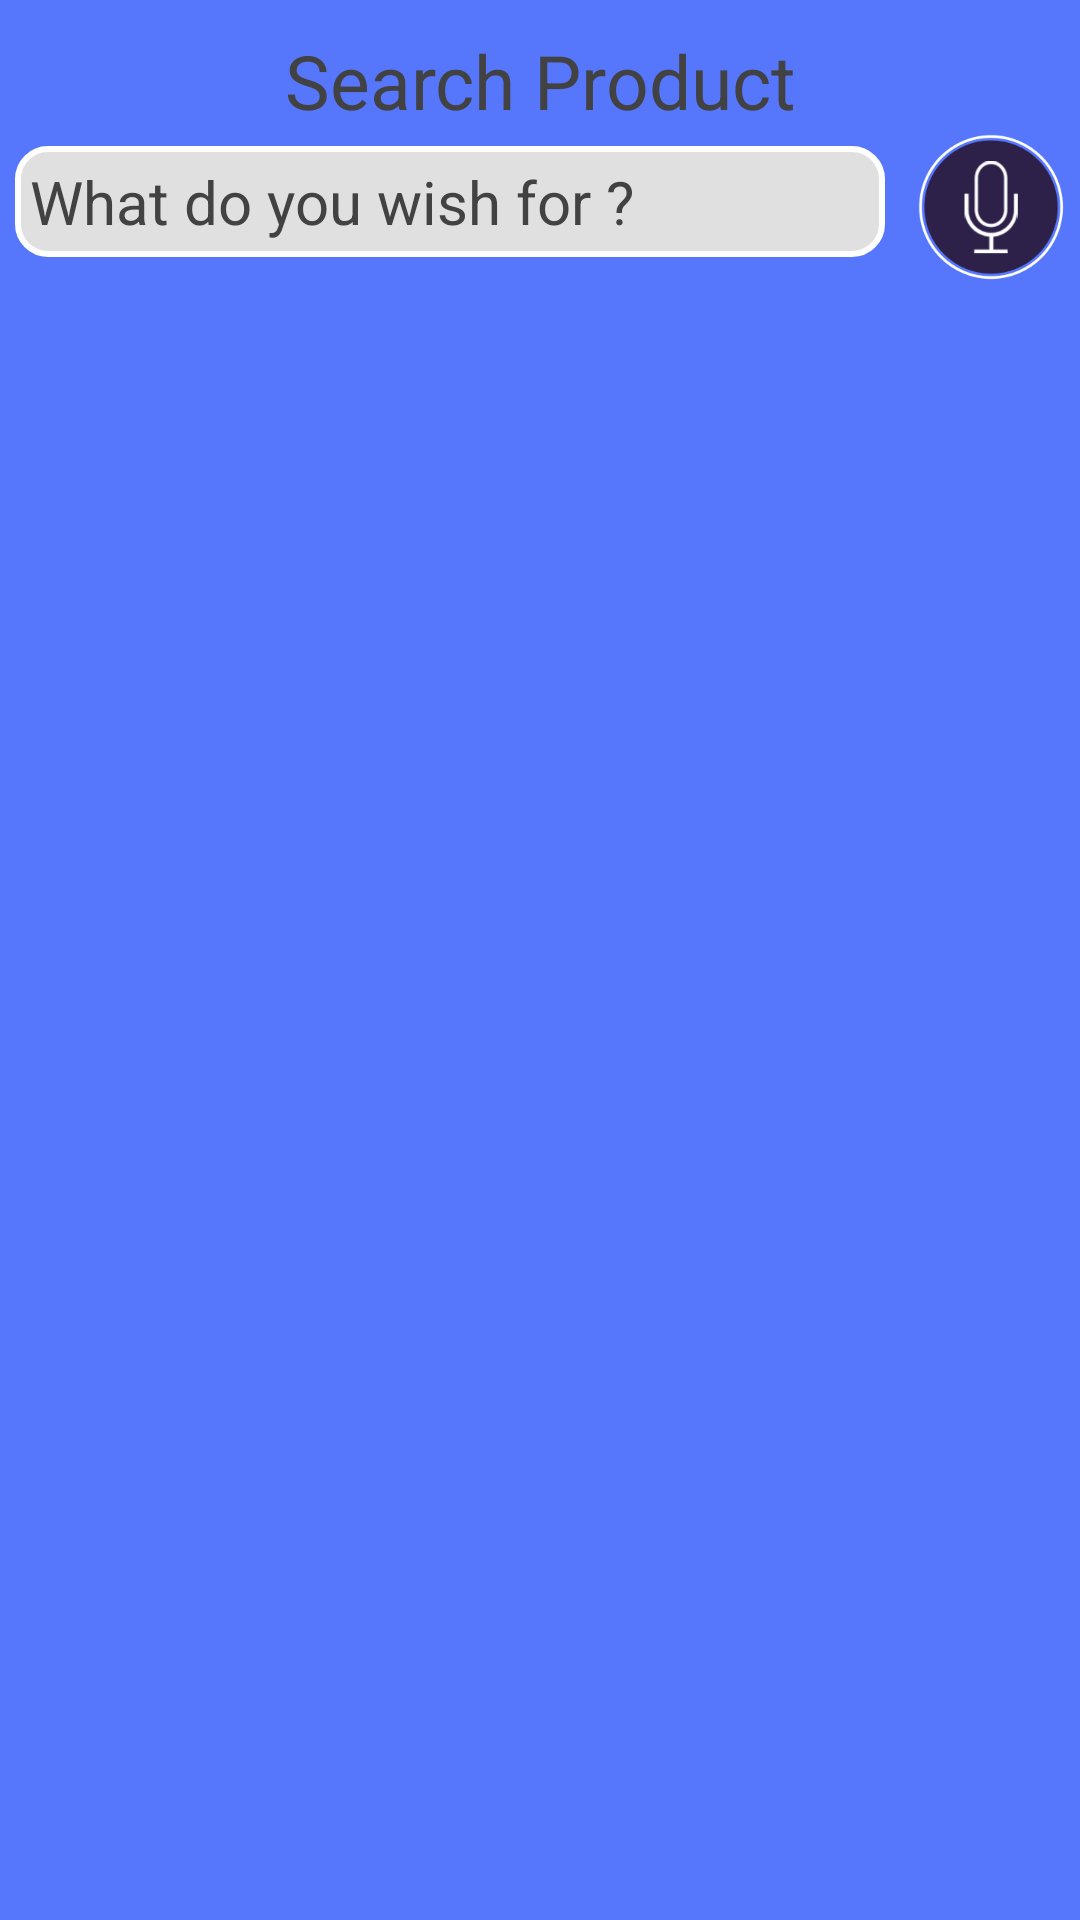

Icon bounding boxes for this 1080px×1920px phone screenshot, format (x1, y1, x2, y2):
mic: (919, 135, 1063, 279)
